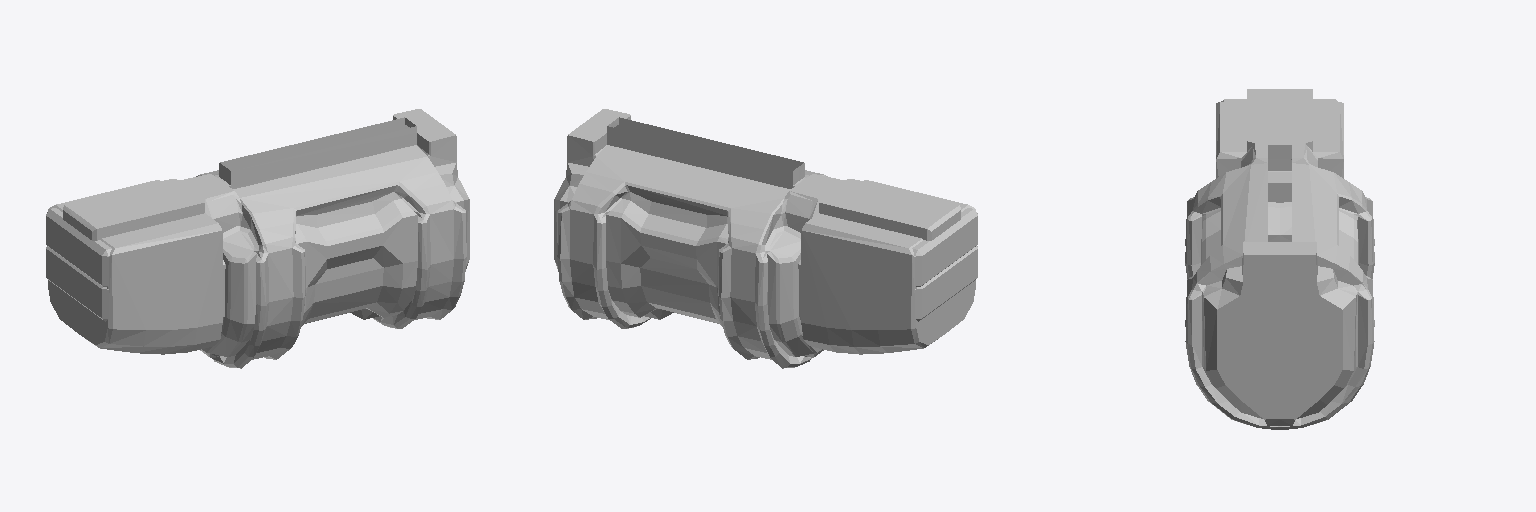
The model's file is AssaultRifles_Vladof_Foregrip_3.obj.
3 views of the same model, side by side, from view 1: azimuth 30°, elevation 25°; view 2: azimuth 150°, elevation 25°; view 3: azimuth 270°, elevation 25° (orthographic).
Parts seen in each view (by area): view 1: SK_AR_VLA.076, SK_AR_VLA.077, SK_AR_VLA.078; view 2: SK_AR_VLA.076, SK_AR_VLA.077, SK_AR_VLA.078; view 3: SK_AR_VLA.076.
Boxes of the visible parts, <box> form: SK_AR_VLA.076: <box>48,109,469,368</box>; SK_AR_VLA.077: <box>46,208,111,286</box>; SK_AR_VLA.078: <box>46,246,108,321</box>; SK_AR_VLA.076: <box>554,109,975,368</box>; SK_AR_VLA.077: <box>912,208,977,286</box>; SK_AR_VLA.078: <box>915,246,977,321</box>; SK_AR_VLA.076: <box>1185,89,1374,429</box>.
Bounding box in the file's own units: 14.94 × 7.56 × 6.75.